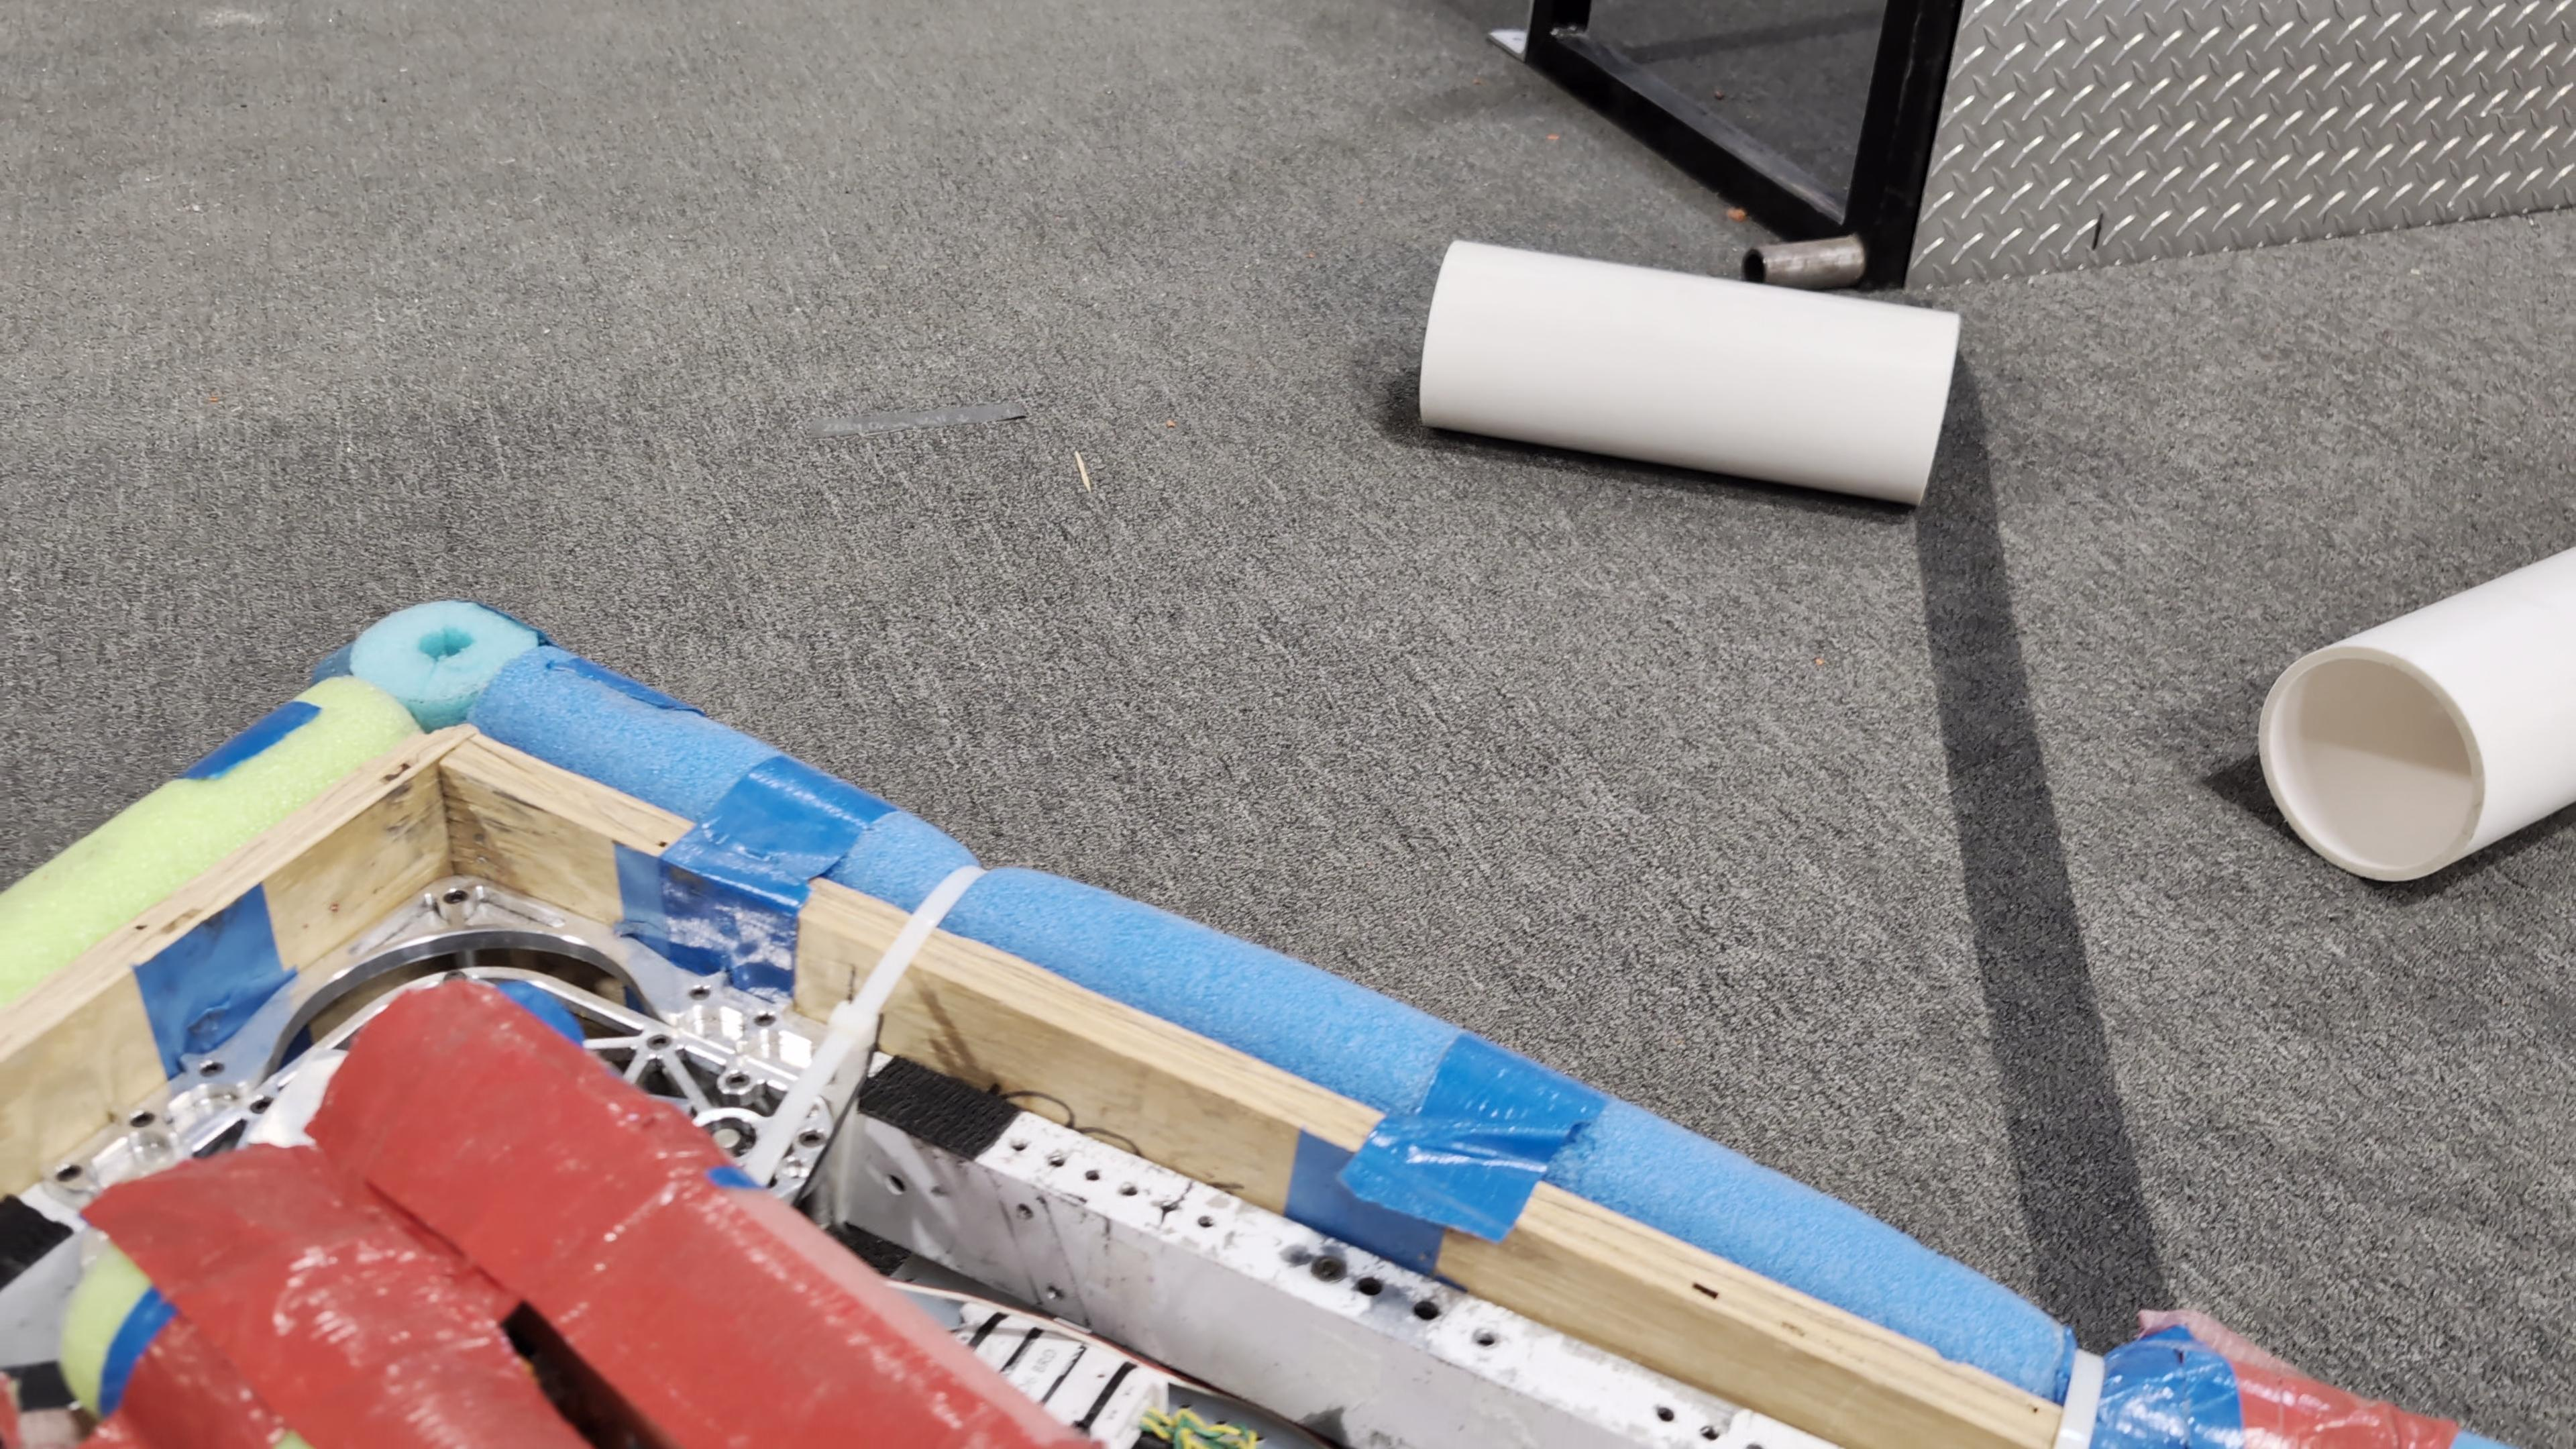coral: (1417, 234, 1964, 508), (2256, 497, 2576, 883)
